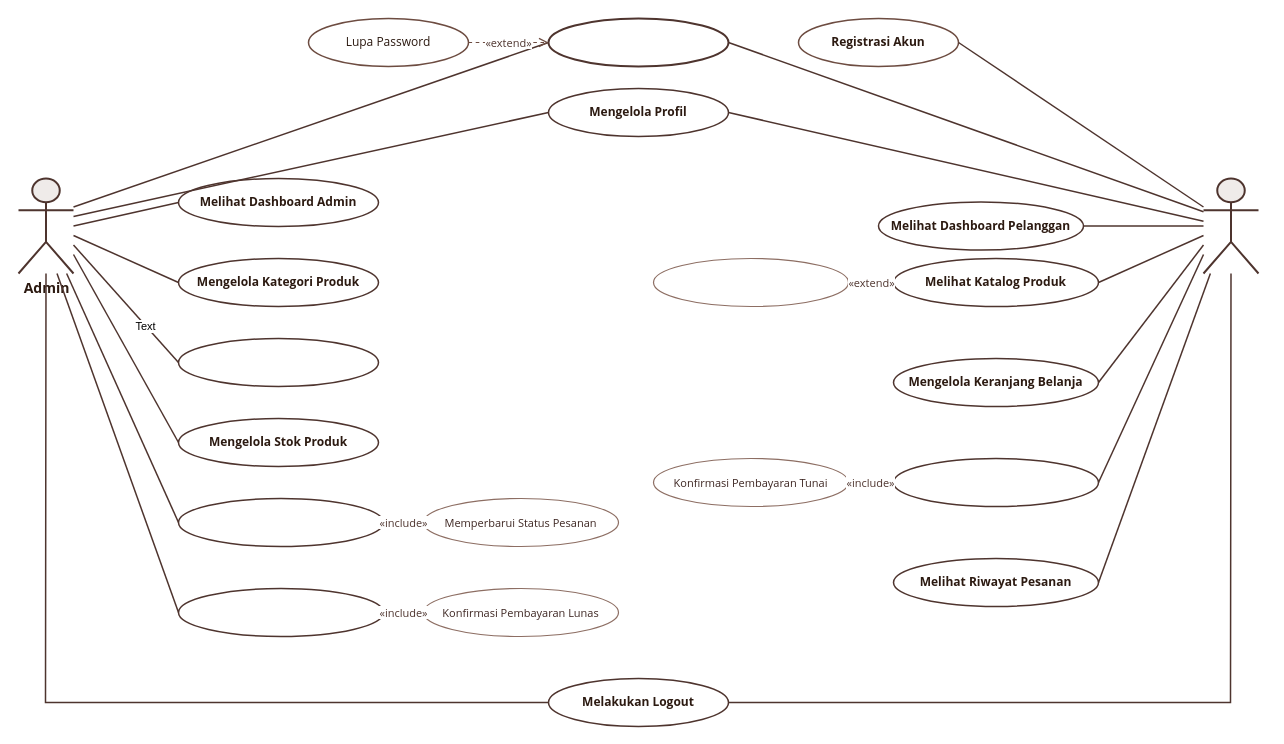
Some shapes in this 1284 by 744 pixel diagram are drawn without their labels. Each missing label, with the box of its shape:
Melakukan Checkout Pesanan: (892, 457, 1099, 507)
Melakukan Login: (547, 17, 729, 67)
Melihat Rincian Detail Menu: (652, 257, 849, 307)
Mengelola Data Produk: (177, 337, 379, 387)
Mengelola Pembayaran Kasir: (177, 587, 384, 637)
Mengelola Pesanan Pelanggan: (177, 497, 384, 547)
Pelanggan: (1202, 177, 1259, 274)
